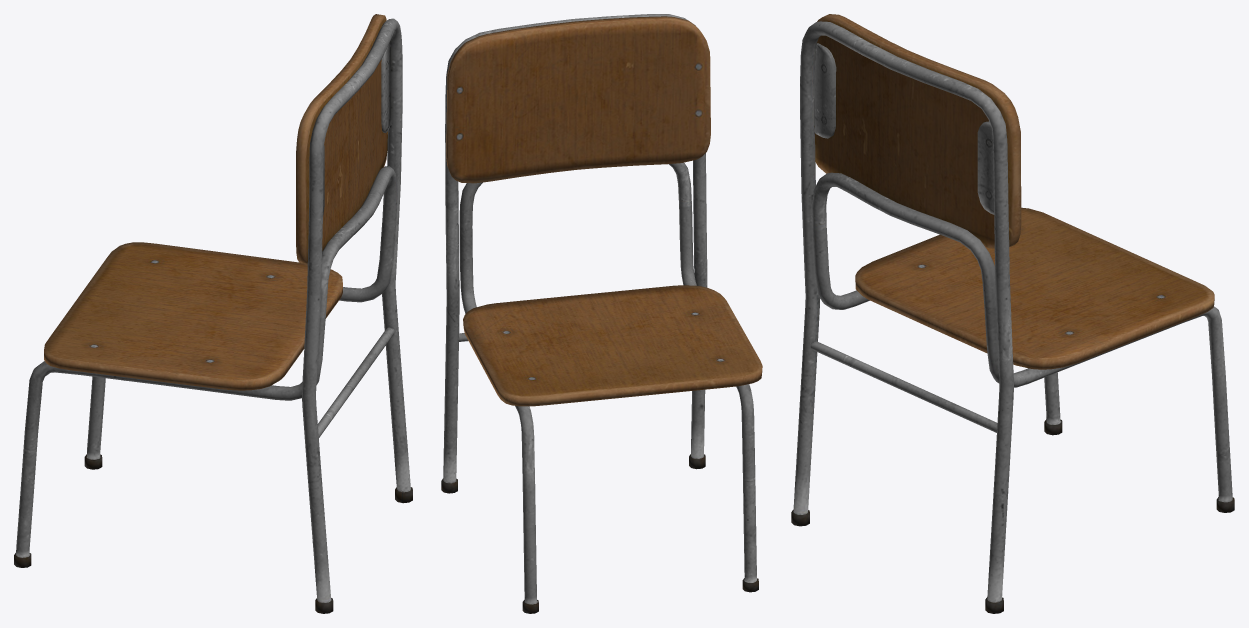
File: chair.glb
3 renders of one model, left to right at view 1: azimuth 30°, elevation 25°; view 2: azimuth 150°, elevation 25°; view 3: azimuth 270°, elevation 25°, orthographic. The views are drawn at different scales.
Visible parts, largest first — view 1: ChairWood_L, ChairMetal_L; view 2: ChairWood_L, ChairMetal_L; view 3: ChairWood_L, ChairMetal_L.
Boxes of the visible parts, x1=… form: ChairWood_L: x1=44, y1=14, x2=387, y2=390; ChairMetal_L: x1=14, y1=18, x2=412, y2=613; ChairWood_L: x1=446, y1=16, x2=762, y2=406; ChairMetal_L: x1=441, y1=14, x2=758, y2=613; ChairWood_L: x1=814, y1=14, x2=1214, y2=369; ChairMetal_L: x1=791, y1=21, x2=1234, y2=613.
Bounding box in the file's own units: 93.45 × 120 × 94.06.
1 material, 1 textured.
